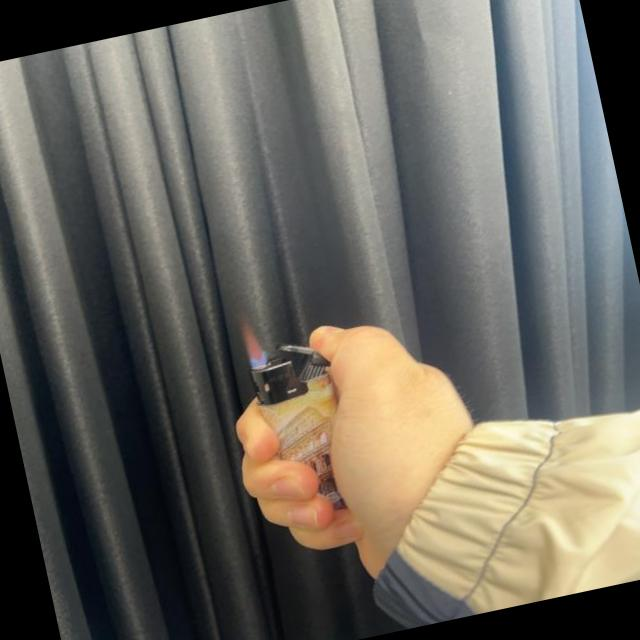Fire: (234, 314, 271, 371)
